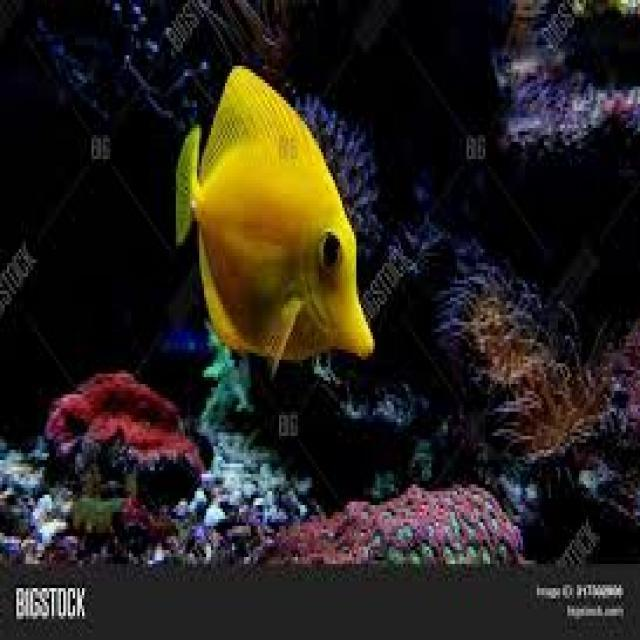YellowTang: (160, 51, 401, 398)
